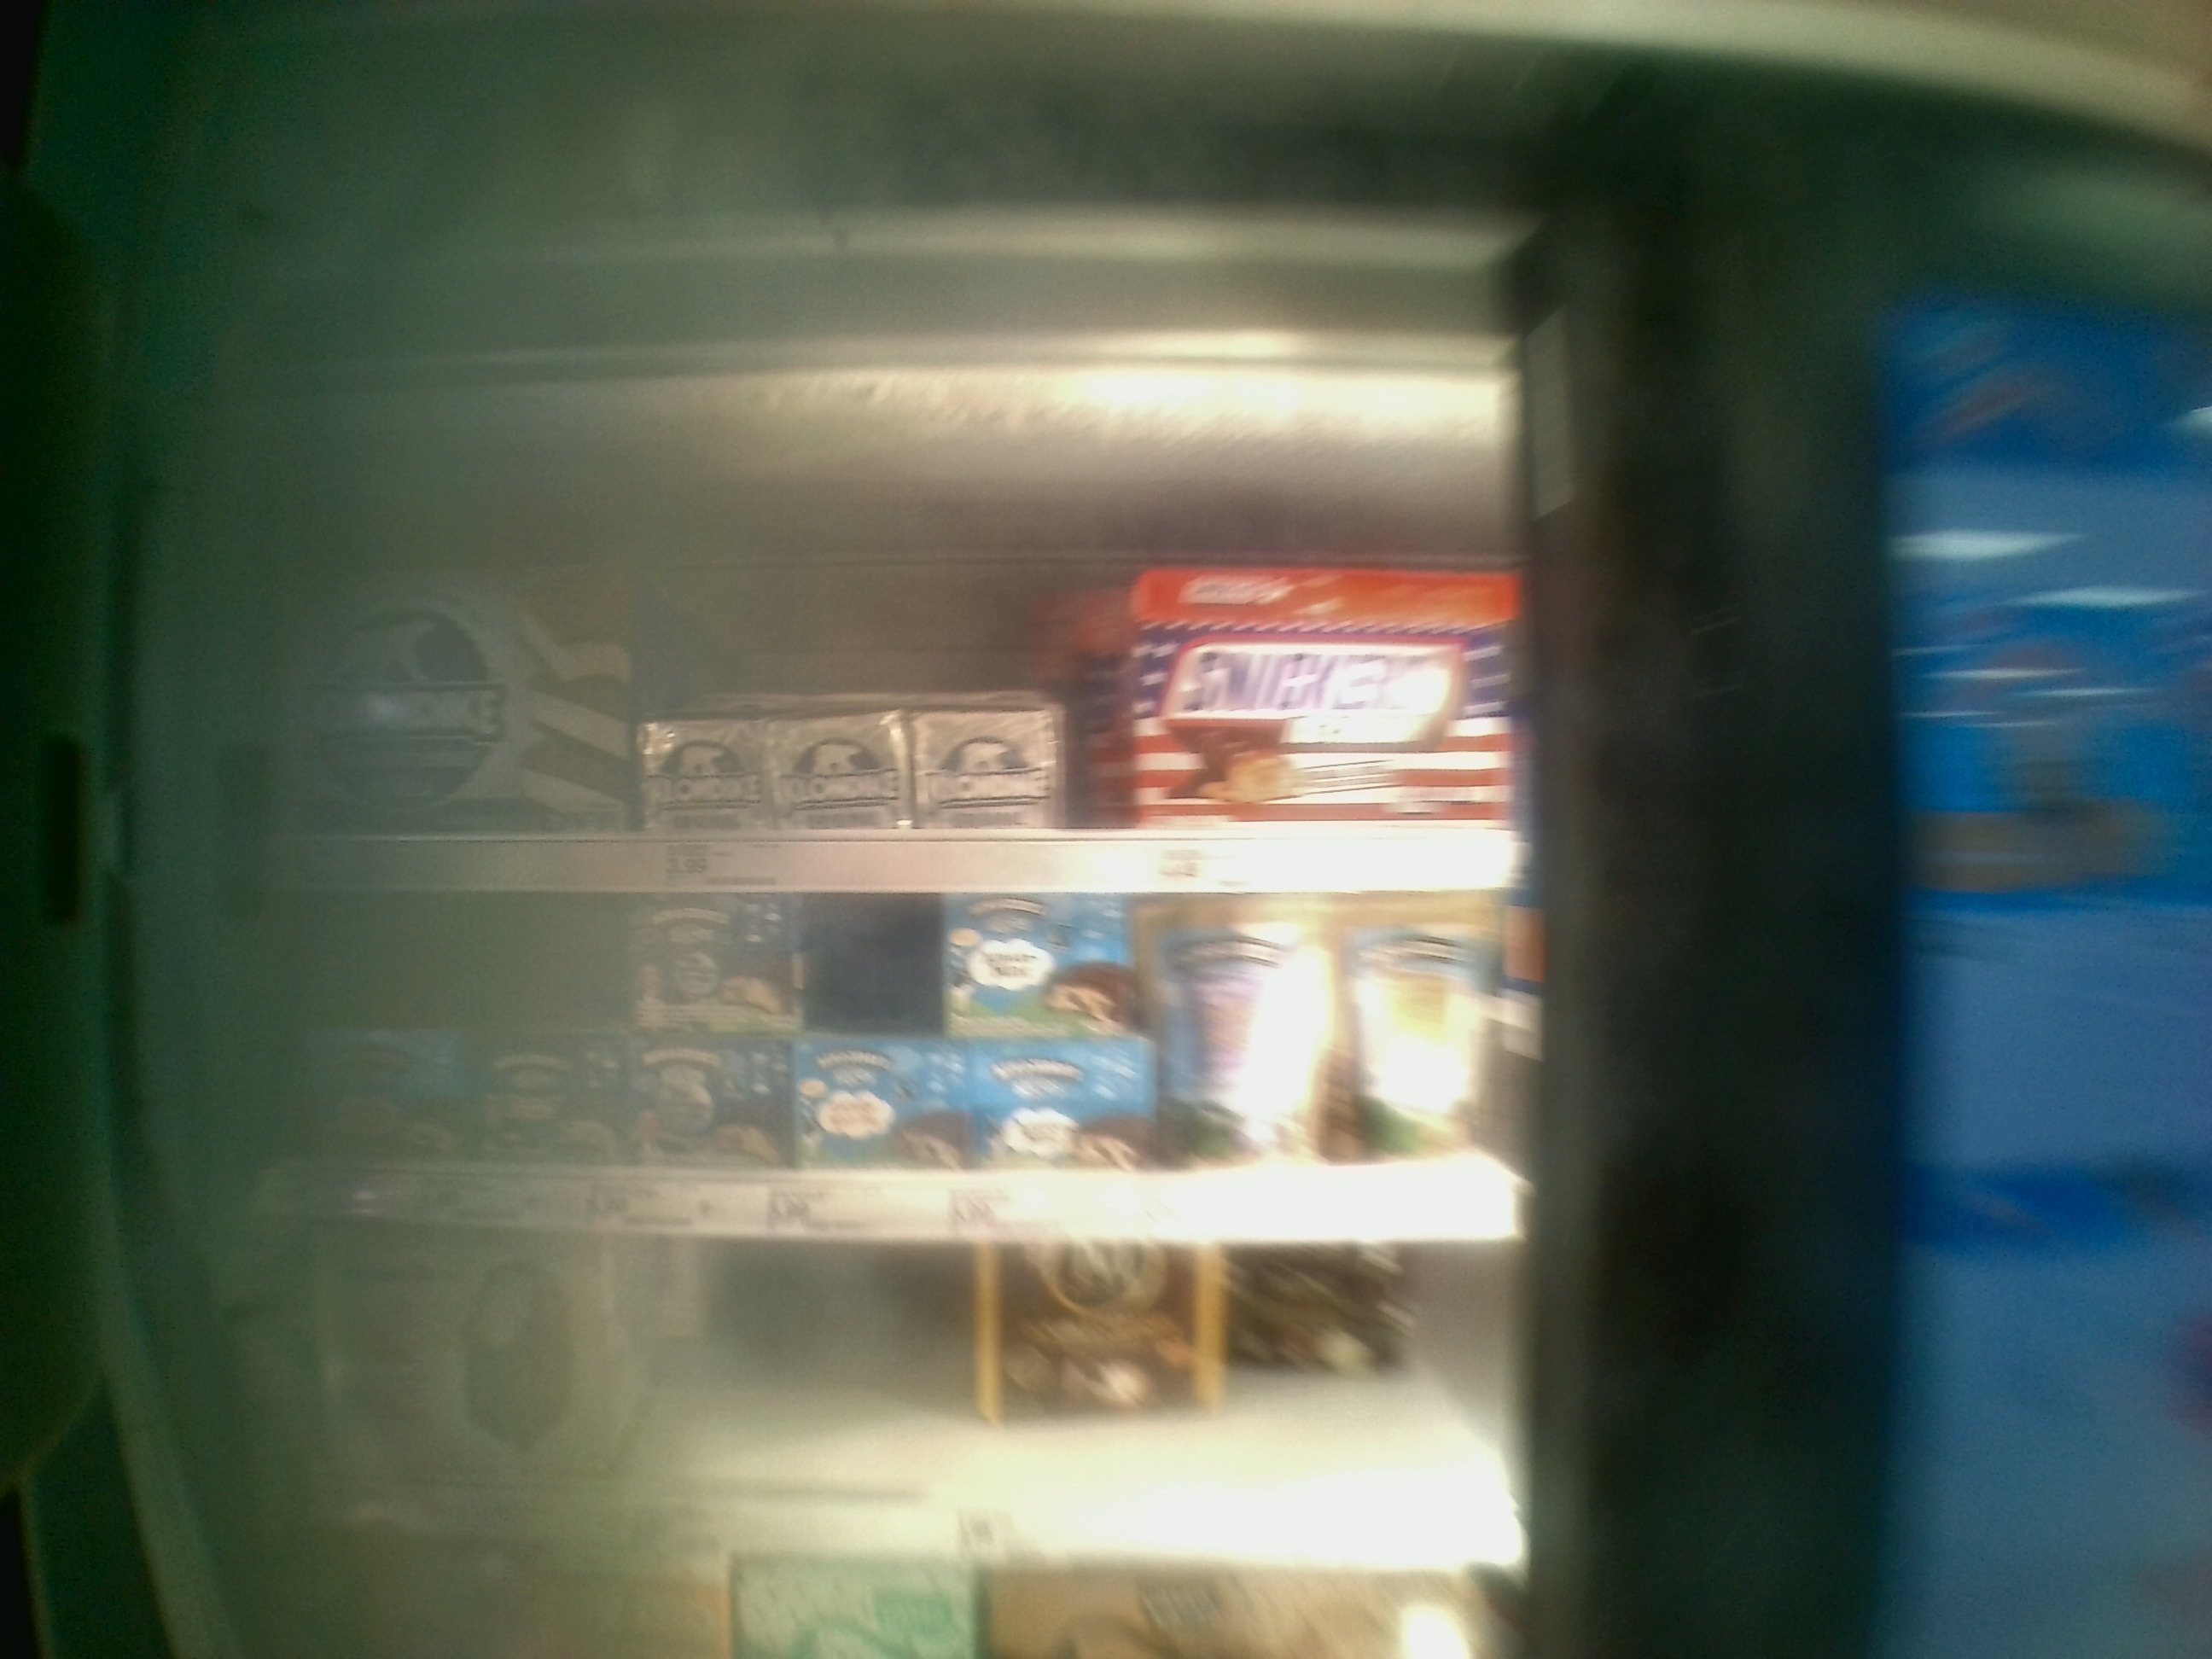ice-cream-shelf: (206, 437, 1531, 892), (193, 894, 1536, 1236)
